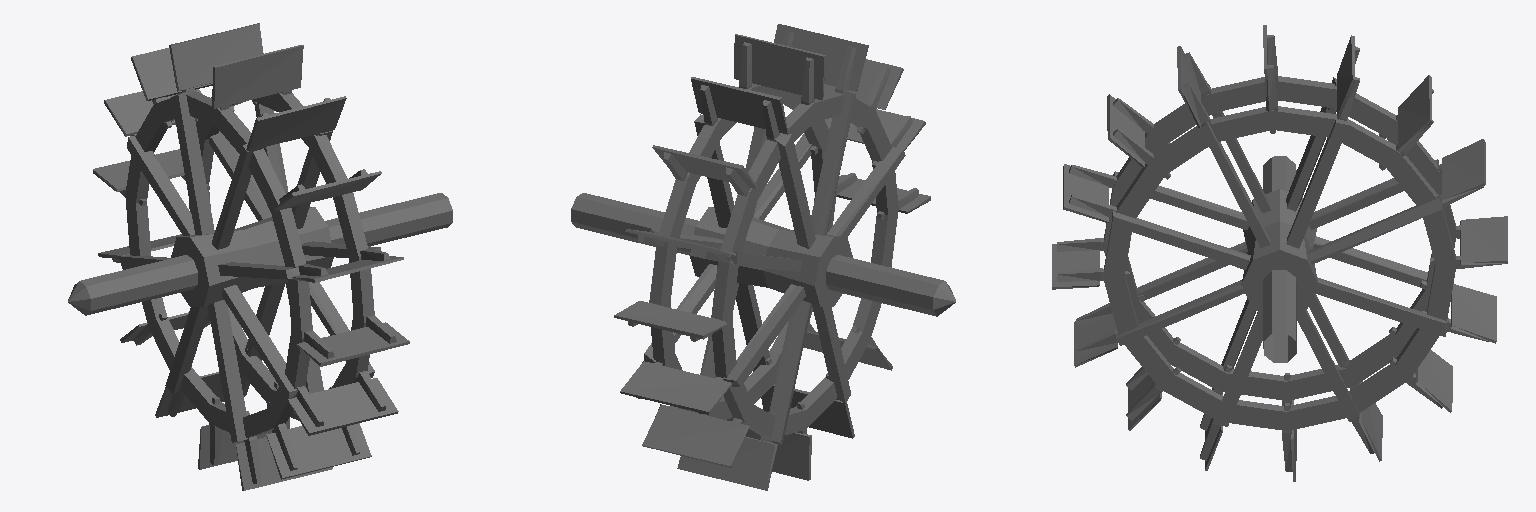
Rendered from waterwheel.obj.
The picture shows the model from 3 angles: view 1: azimuth 30°, elevation 25°; view 2: azimuth 150°, elevation 25°; view 3: azimuth 270°, elevation 25°; orthographic projection.
Visible parts, largest first — view 1: Mill-water-wheel_Untitled.002; view 2: Mill-water-wheel_Untitled.002; view 3: Mill-water-wheel_Untitled.002.
Part boxes in pixels (bbox=[...]): Mill-water-wheel_Untitled.002: bbox=[68, 23, 452, 490]; Mill-water-wheel_Untitled.002: bbox=[571, 24, 955, 490]; Mill-water-wheel_Untitled.002: bbox=[1052, 25, 1507, 481].
Bounding box in the file's own units: 6.65 × 6.97 × 6.97.